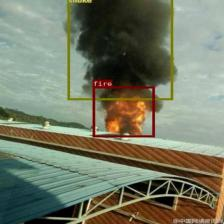fire: (93, 86, 154, 137)
smoke: (66, 0, 172, 99)
